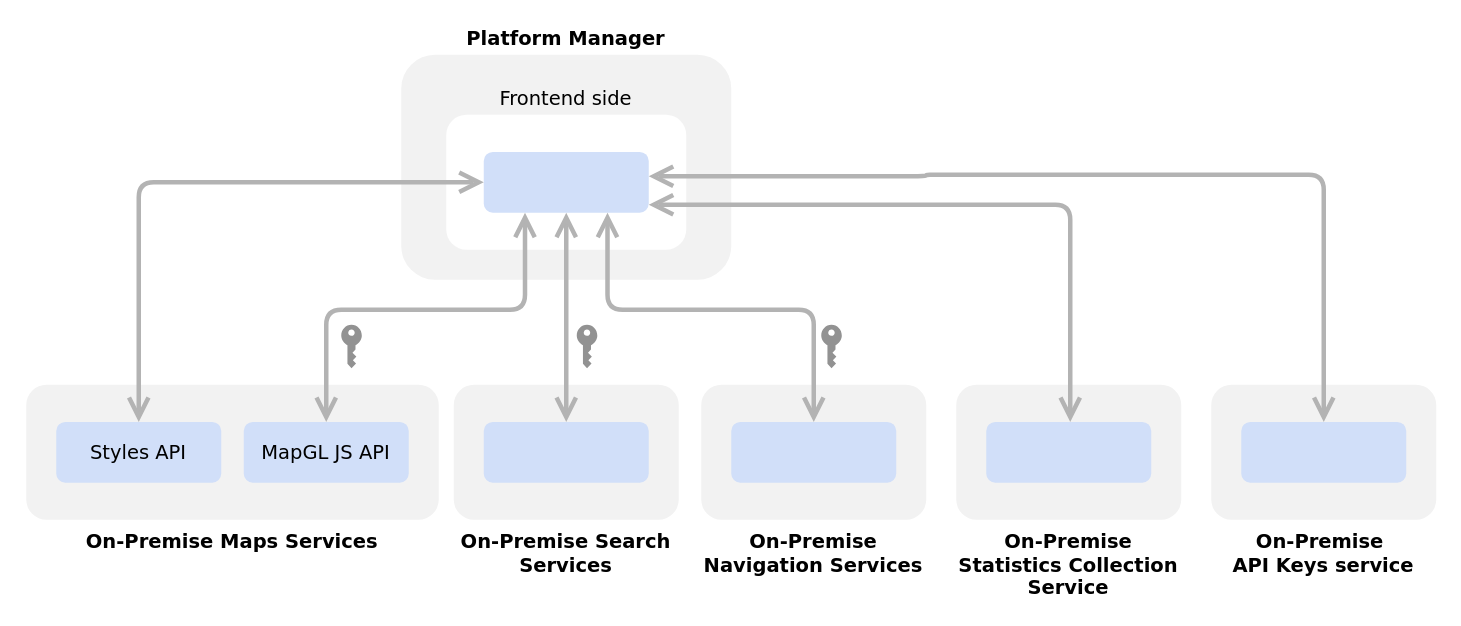
The diagram is 1461 pixels wide and 626 high, and some of its shapes have lost their labels. The shapes that lost their labels are listed below. From the top down, each one's centre as x and y in pixels, then its label:
[565,181]: Platform
[565,451]: Geocoder API
[813,451]: Directions API
[1068,451]: Stat API
[1323,451]: Keys API
